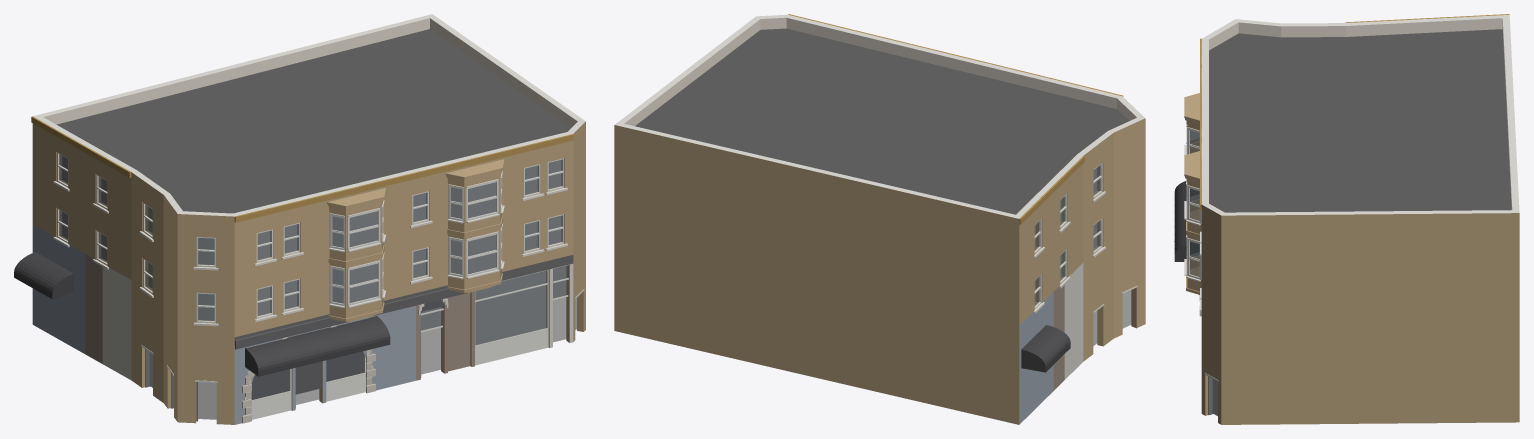
File: exterior.glb
3 renders of one model, left to right at view 1: azimuth 30°, elevation 25°; view 2: azimuth 150°, elevation 25°; view 3: azimuth 270°, elevation 25°, orthographic.
Visible parts, largest first — view 1: shell, roof, shadow-proxy, glazing, bay-glazing-hyb, bay-windows-hyb, storefront, awning-barrel-2, frames, front-dressing-r4, relief-2, front-dressing (+4 smaller); view 2: shell, roof, awning-barrel-6, glazing, frames, shadow-proxy, relief-2, relief-6; view 3: shell, roof, bay-windows-hyb, bay-glazing-hyb, awning-barrel-2, relief-2.
Part boxes in pixels (<box>): shell: <box>32,14,585,424</box>; roof: <box>57,29,570,213</box>; shadow-proxy: <box>62,156,576,419</box>; glazing: <box>59,154,568,399</box>; bay-glazing-hyb: <box>329,171,504,308</box>; bay-windows-hyb: <box>327,159,504,321</box>; storefront: <box>141,264,584,421</box>; awning-barrel-2: <box>245,316,390,376</box>; frames: <box>57,152,564,323</box>; front-dressing-r4: <box>251,299,443,399</box>; relief-2: <box>234,134,573,222</box>; front-dressing: <box>235,288,466,400</box>; shell: <box>614,14,1145,424</box>; roof: <box>635,28,1128,214</box>; awning-barrel-6: <box>1021,325,1070,372</box>; glazing: <box>1034,165,1100,305</box>; frames: <box>1034,163,1102,308</box>; shadow-proxy: <box>1035,168,1131,345</box>; relief-2: <box>788,14,1123,96</box>; relief-6: <box>1019,156,1084,224</box>; shell: <box>1201,15,1519,424</box>; roof: <box>1209,29,1511,212</box>; bay-windows-hyb: <box>1184,93,1201,294</box>; bay-glazing-hyb: <box>1184,120,1201,281</box>; awning-barrel-2: <box>1174,181,1198,261</box>; relief-2: <box>1200,38,1201,210</box>.
Bounding box in the file's own units: 24.03 × 11.07 × 16.54.
